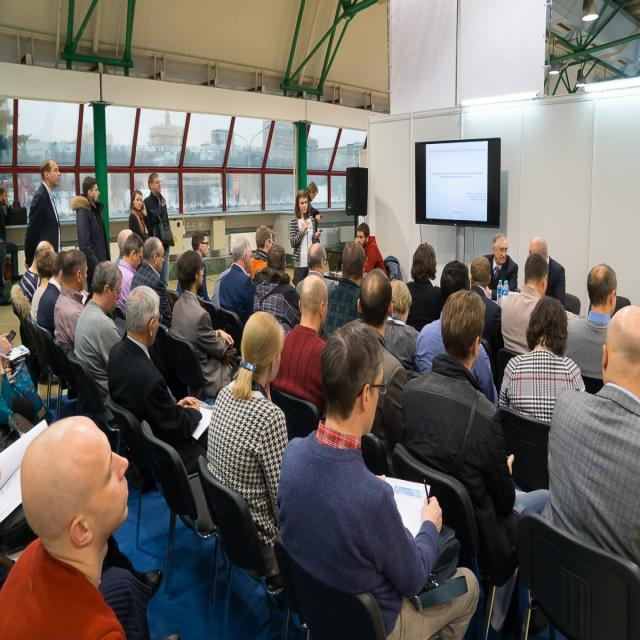body: (275, 317, 481, 640), (399, 286, 551, 592), (0, 410, 131, 640), (538, 302, 640, 567), (205, 310, 291, 590), (106, 284, 210, 476), (415, 258, 500, 411), (354, 266, 410, 479), (498, 294, 588, 424), (170, 249, 235, 399), (271, 274, 333, 418), (73, 257, 124, 428), (564, 262, 618, 382), (10, 238, 69, 328), (500, 253, 550, 359), (0, 329, 42, 453), (70, 175, 111, 300), (319, 240, 367, 342), (103, 530, 166, 604), (252, 243, 302, 335), (468, 255, 505, 378), (24, 158, 62, 269), (129, 235, 173, 329), (142, 172, 176, 290), (52, 248, 89, 352), (403, 242, 444, 334), (218, 236, 258, 330), (382, 278, 421, 372), (290, 189, 322, 291), (524, 236, 566, 310), (175, 228, 213, 303), (480, 232, 519, 302), (296, 240, 337, 302), (115, 231, 145, 311), (354, 222, 388, 278), (0, 185, 13, 306), (248, 224, 275, 278), (127, 188, 150, 244), (210, 260, 233, 313), (306, 179, 324, 232), (114, 227, 132, 268), (270, 230, 277, 246)
